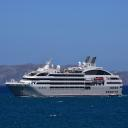cruises: (6, 56, 125, 98)
